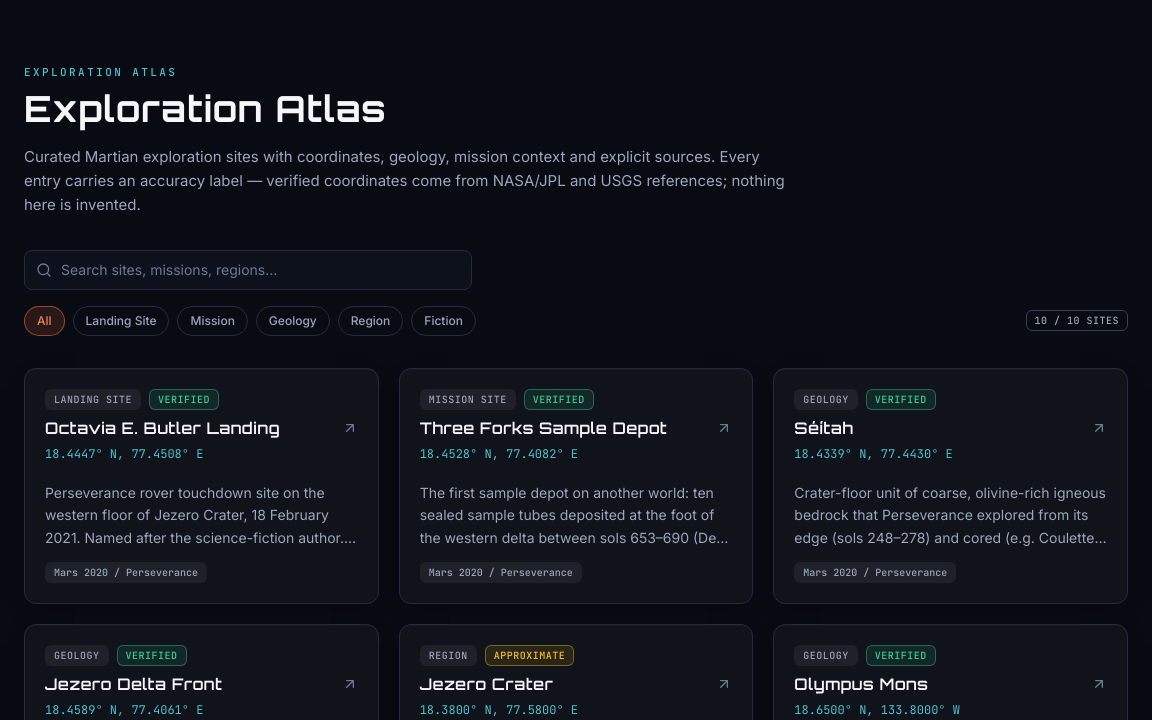
Test: AtlasPage (Module D) › filters by search query
In the search field named "Search points of interest": (248, 270) [24,250,472,290], type "watney"
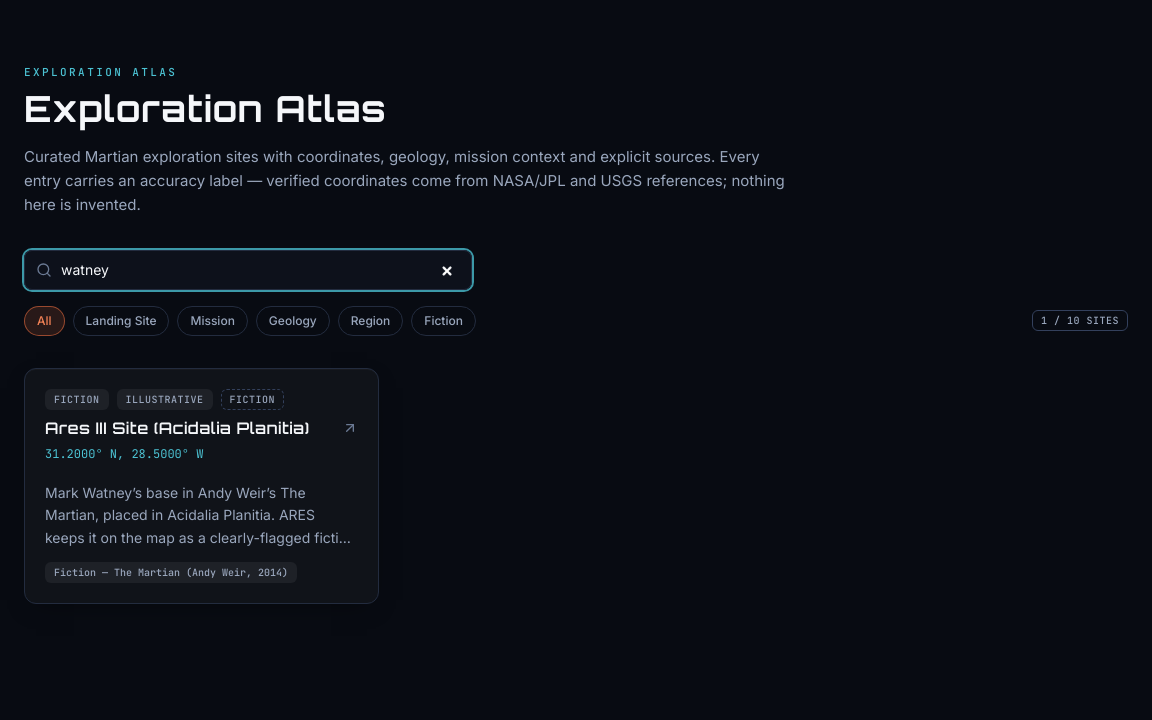
Expected: the button with aria-label "Open details for Ares III Site" is shown, [24,368,379,604]
Expected: the text "1 / 10 sites" is shown, [1032,310,1128,331]
